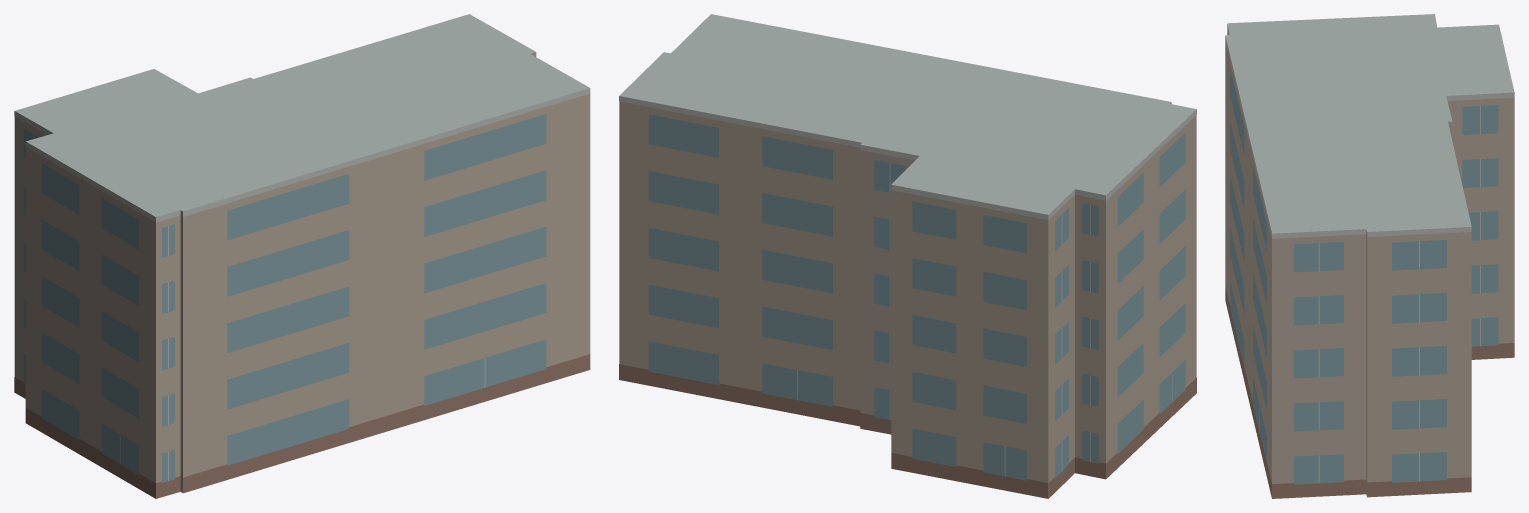
The model's file is survey-upis-32928262.glb.
3 renders of one model, left to right at view 1: azimuth 30°, elevation 25°; view 2: azimuth 150°, elevation 25°; view 3: azimuth 270°, elevation 25°, orthographic. The views are drawn at different scales.
Parts seen in each view (by area): view 1: survey-upis-32928262.tmp; view 2: survey-upis-32928262.tmp; view 3: survey-upis-32928262.tmp.
Boxes of the visible parts, left/top/right/bottom form: survey-upis-32928262.tmp: left=14, top=14, right=590, bottom=498; survey-upis-32928262.tmp: left=619, top=14, right=1196, bottom=498; survey-upis-32928262.tmp: left=1225, top=14, right=1514, bottom=498.
Bounding box in the file's own units: 22.57 × 12.7 × 12.56.
